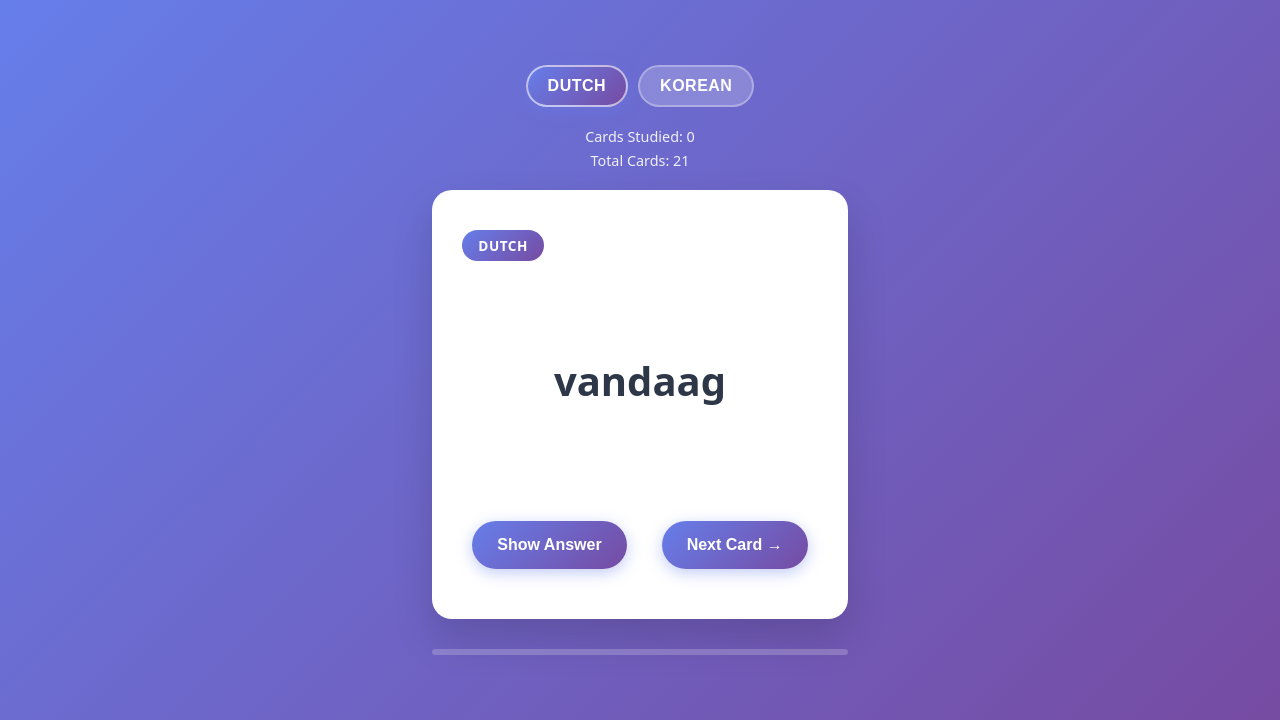
Test case: Flashcard App › Next Card Functionality › loads a new card when clicking Next Card
Click the button "Next Card →" at (735, 545), box left=662, top=521, right=808, bottom=569
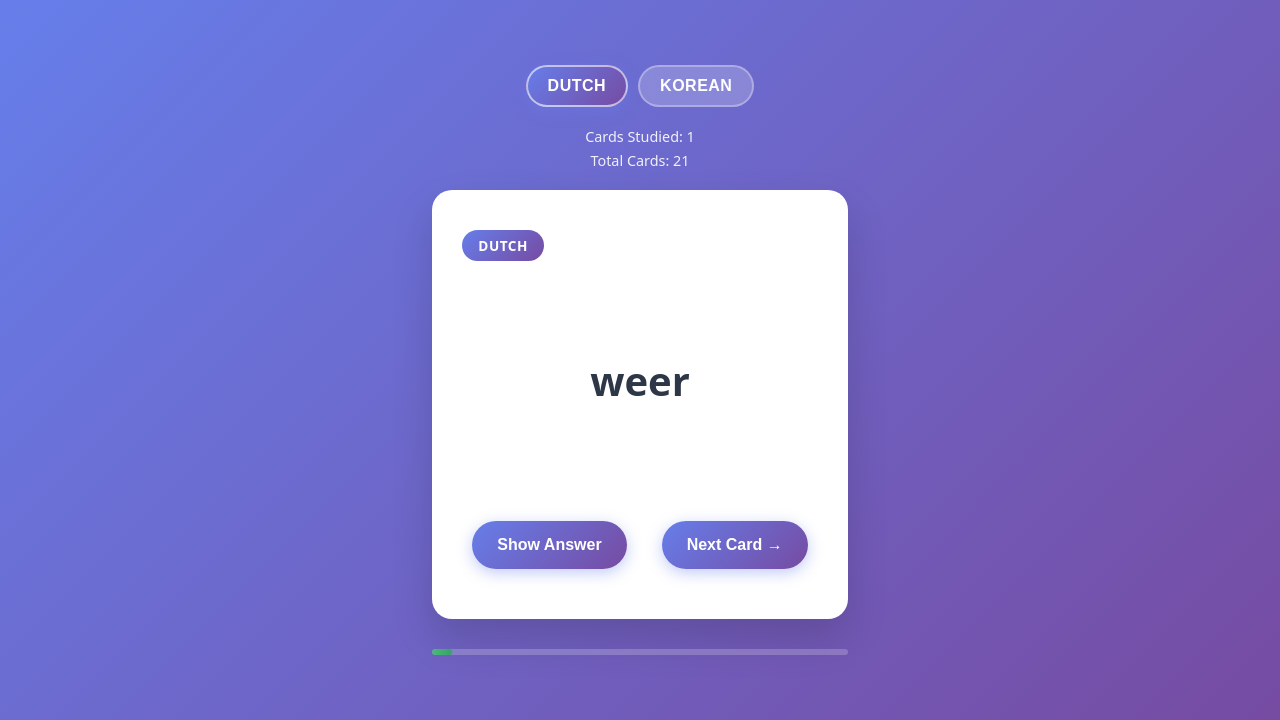
Now the heading "vandaag" no longer shows "vandaag"
